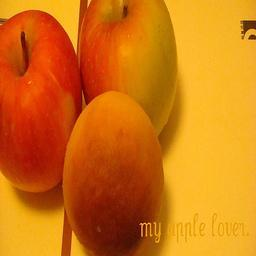apple: (63, 90, 164, 256), (1, 8, 81, 198), (80, 1, 181, 136)
